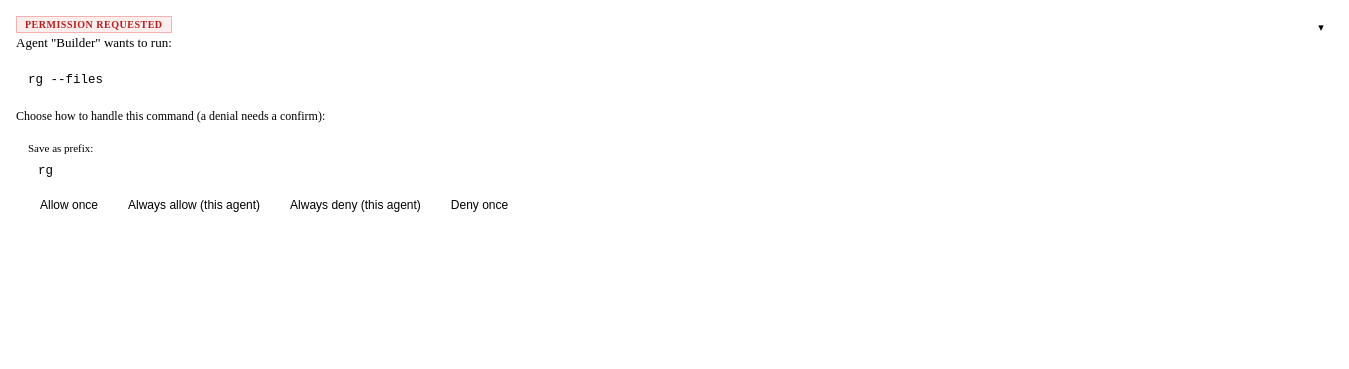
Scenario: ApprovalCard — one optional reason for the denial › shows how much of the limit the reason uses
This screenshot has width=1349, height=369.
Click the button "Deny once" at (480, 205), box [439,192,520,218]
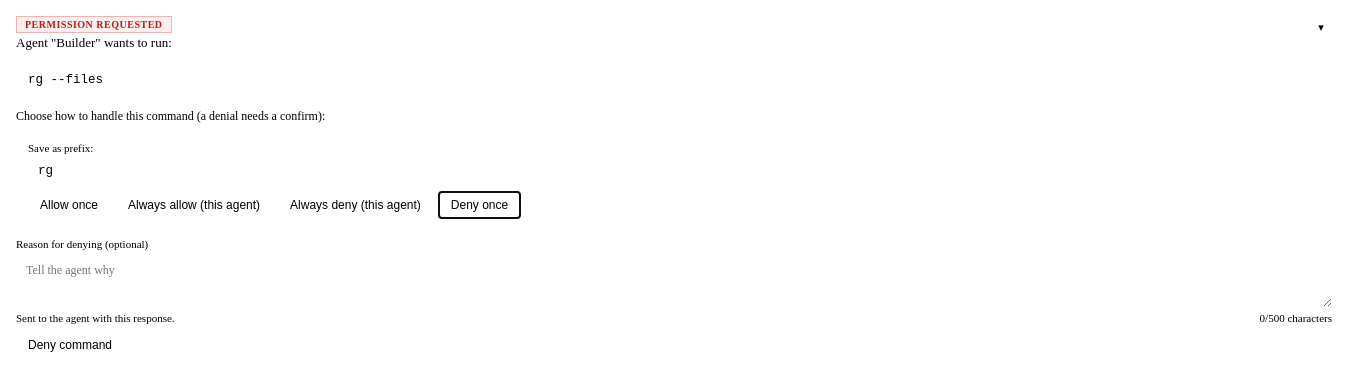
Expected: the text "0/500 characters" is shown, [1260,312,1332,324]
Type "abc" into the text box labelled "Reason for denying (optional)" at (674, 281), box [16,255,1332,307]
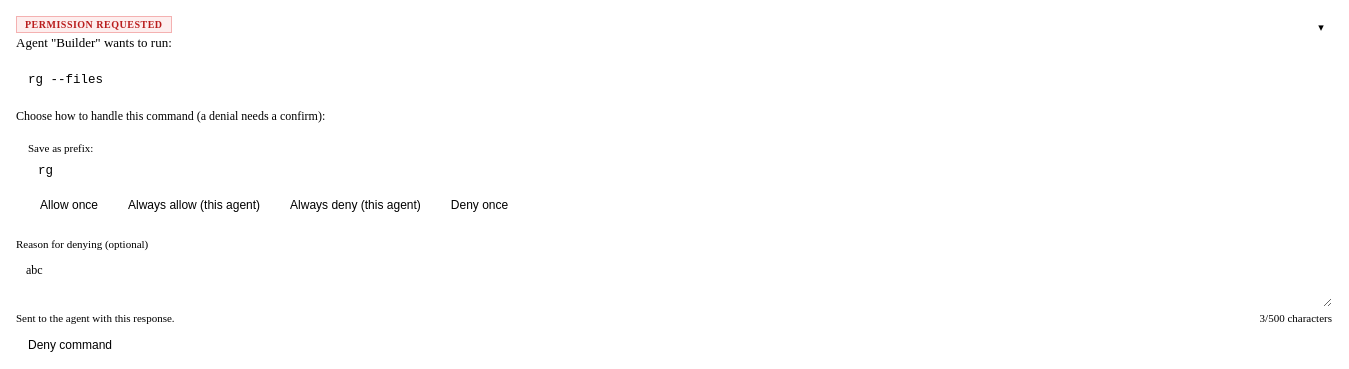
Expected: the text "3/500 characters" is shown, [1260,312,1332,324]
